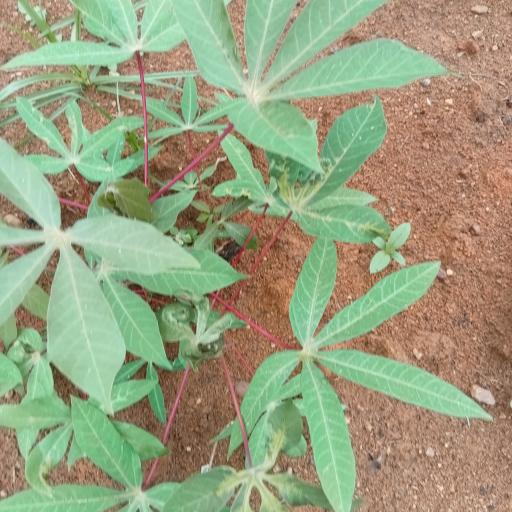Cassava_Mosaic: (1, 146, 190, 398), (164, 2, 440, 171), (184, 419, 362, 512)
